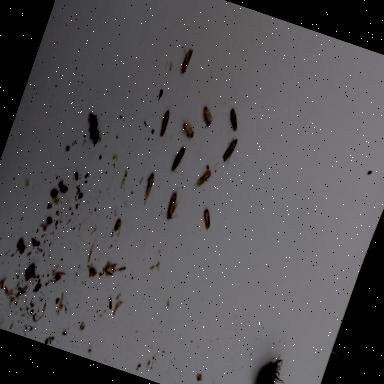pbw: (162, 190, 186, 225), (218, 136, 240, 169), (174, 44, 195, 78), (140, 170, 158, 207), (192, 166, 214, 195), (168, 145, 188, 175), (224, 109, 244, 134), (197, 106, 216, 132), (198, 208, 216, 233), (156, 111, 172, 138), (180, 121, 198, 140)
